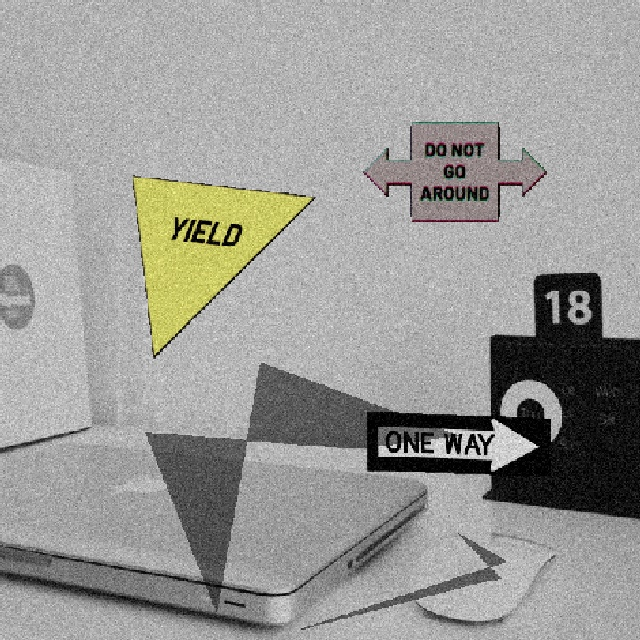DO_NOT_GO_AROUND: (361, 120, 546, 221)
ONE_WAY_ right: (365, 410, 550, 475)
YIELD: (130, 174, 315, 357)
